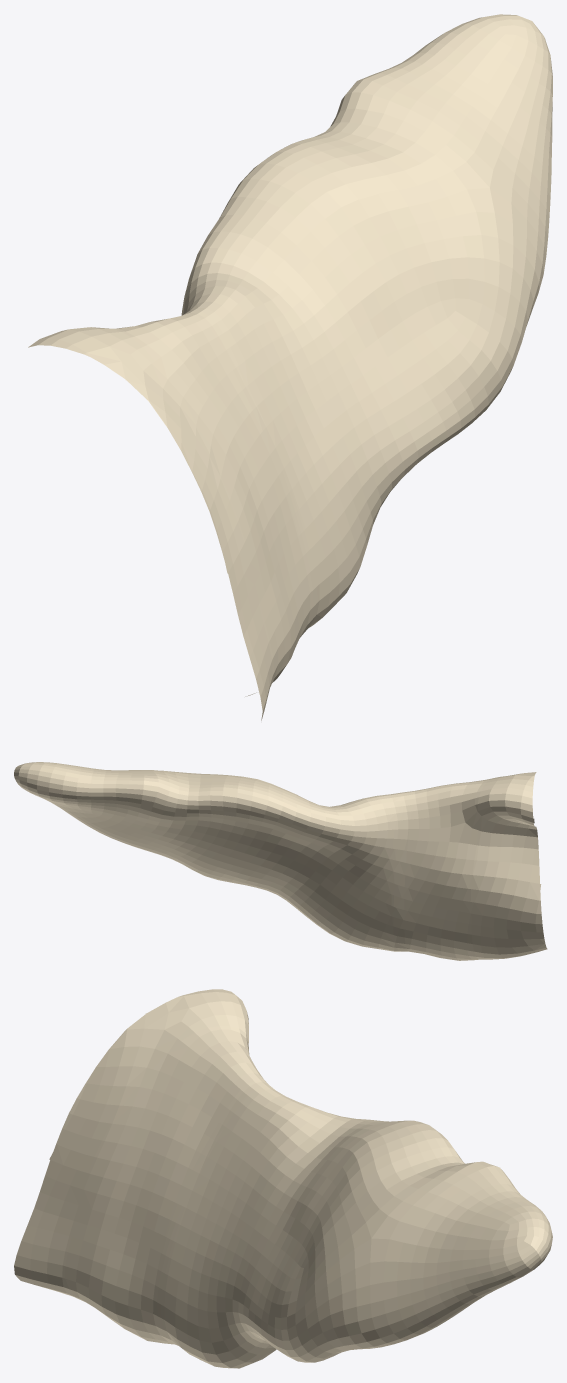
Rendered from frau2-554.glb.
3 renders of one model, top to bottom at view 1: azimuth 30°, elevation 25°; view 2: azimuth 150°, elevation 25°; view 3: azimuth 270°, elevation 25°, orthographic. The views are drawn at different scales.
Visible parts, largest first — view 1: VH_F_tail_of_pancreas; view 2: VH_F_tail_of_pancreas; view 3: VH_F_tail_of_pancreas.
Boxes of the visible parts, x1,y1,x2,y2 form: VH_F_tail_of_pancreas: (28, 14, 552, 720); VH_F_tail_of_pancreas: (14, 762, 547, 960); VH_F_tail_of_pancreas: (14, 989, 552, 1368).
Bounding box in the file's own units: 0.0761 × 0.0394 × 0.0622.
